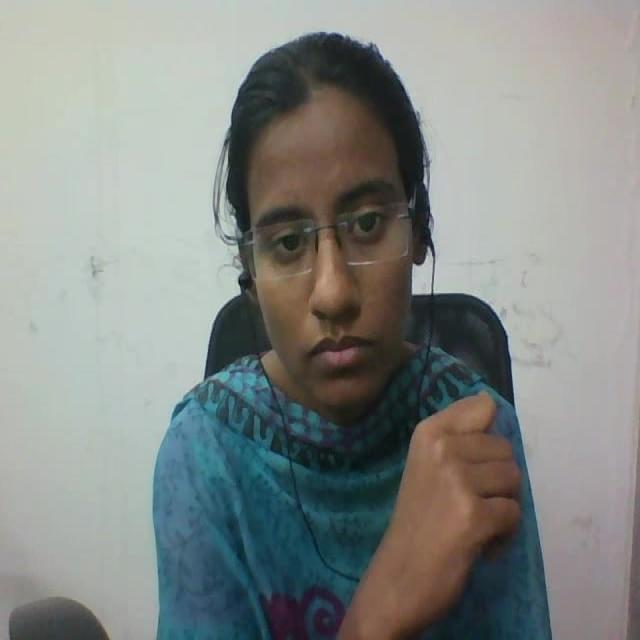Engaged: (227, 9, 472, 444)
